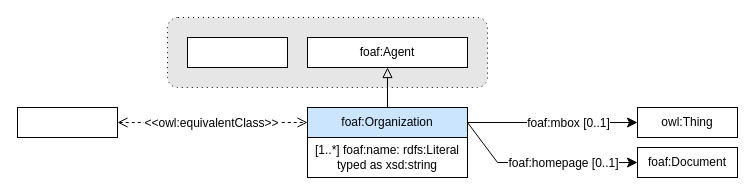
This 755x195 diagram has some shape labels left out. The shapes that lost their labels are listed below. From the top down, each one's box as (x1, y1, x2, y2) in pixels, then its label:
(186, 36, 288, 68): prov:Agent
(16, 106, 118, 138): org:Organization
